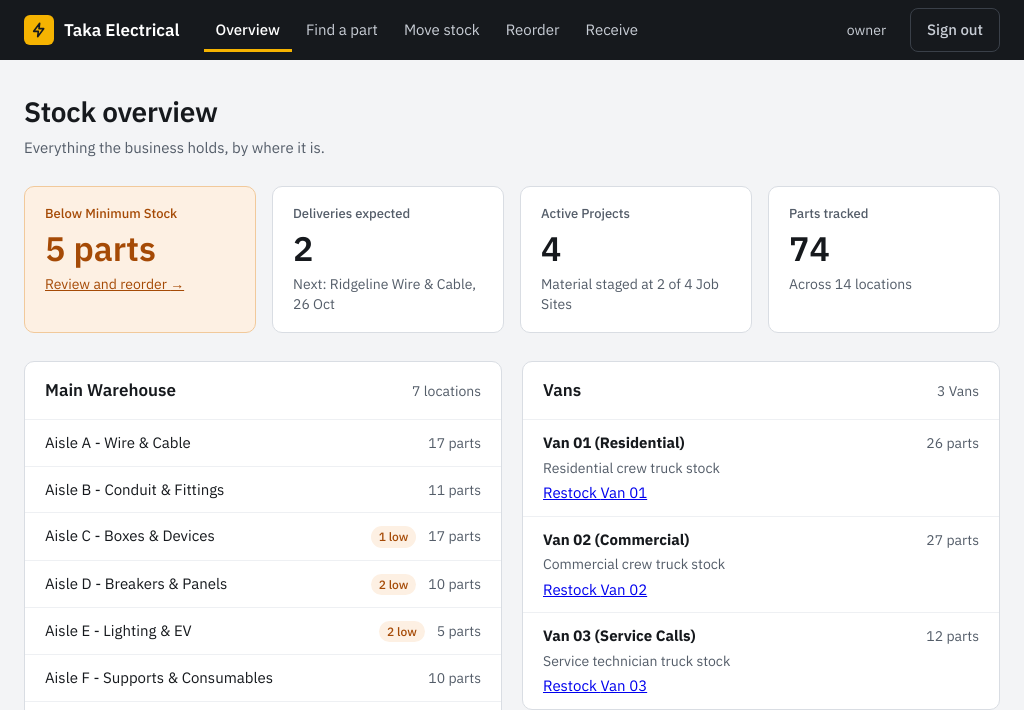
Test case: Find a part › shows each result with its total in stock, marked when below Minimum Stock
Click the link "Find a part". click: {"x": 342, "y": 30}
box: x1=306 y1=20 x2=378 y2=39
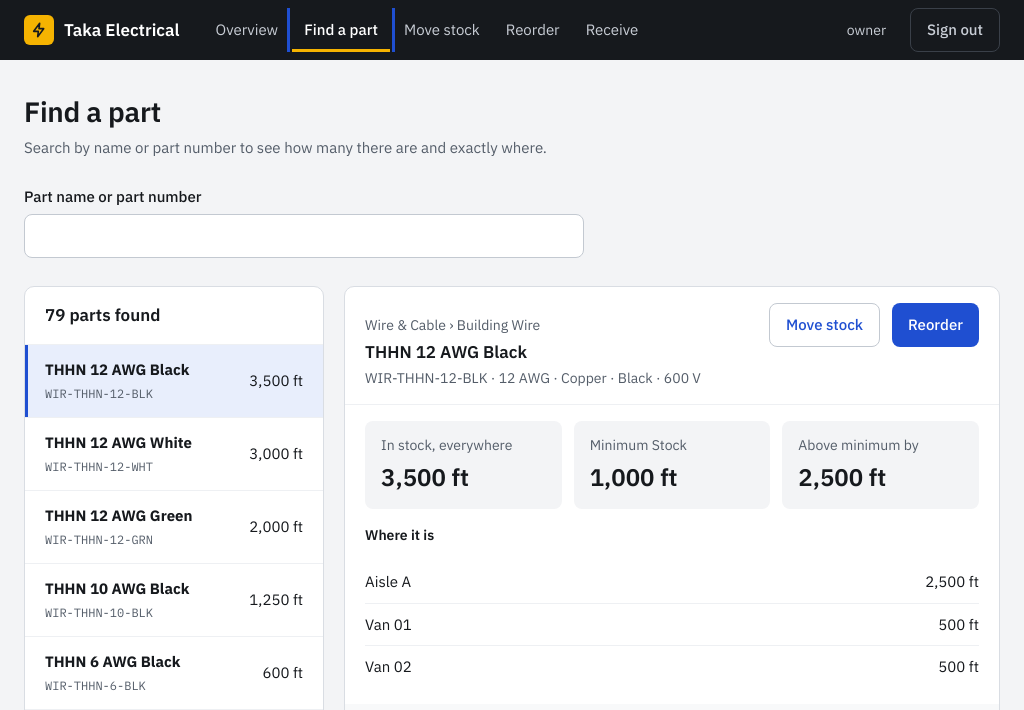
Type "gfci" into the search field labelled "Part name or part number". click: {"x": 304, "y": 236}
box: x1=24 y1=214 x2=584 y2=258
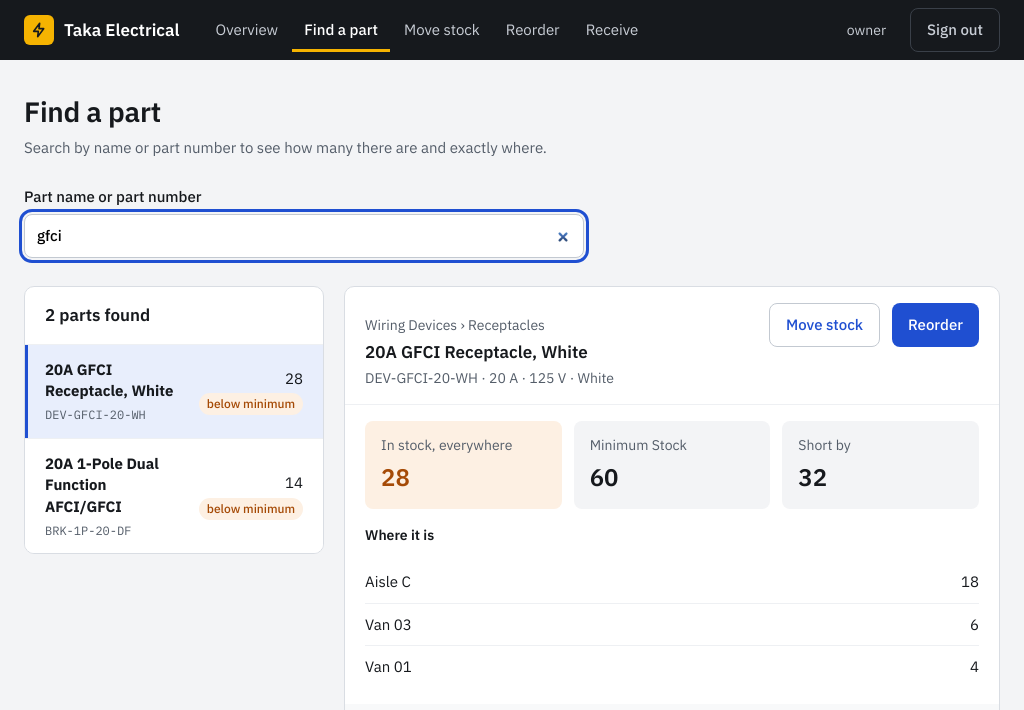
Now the buttons read "20A GFCI Receptacle, WhiteDEV-GFCI-20-WH28below minimum", "20A 1-Pole Dual Function AFCI/GFCIBRK-1P-20-DF14below minimum", in this order, box x1=25 y1=345 x2=323 y2=438; x1=25 y1=439 x2=323 y2=553
Replace the text in the search field with "WIR-NMB-12-2". click: {"x": 304, "y": 236}
box: x1=24 y1=214 x2=584 y2=258
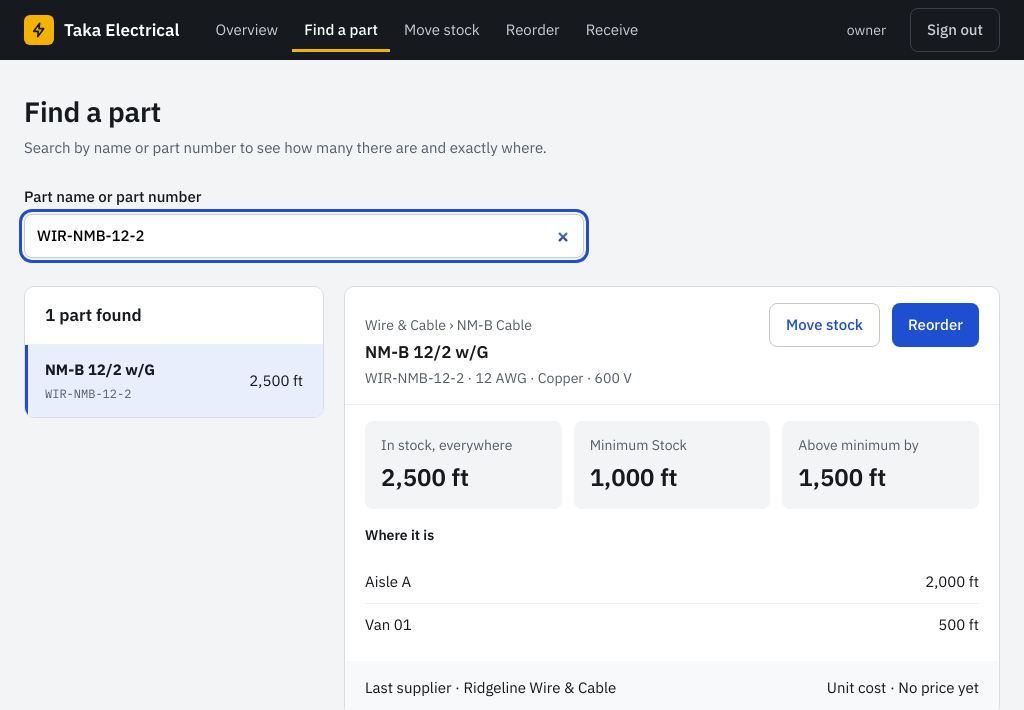
Now the buttons read "NM-B 12/2 w/GWIR-NMB-12-22,500 ft", in this order, box x1=25 y1=345 x2=323 y2=417
